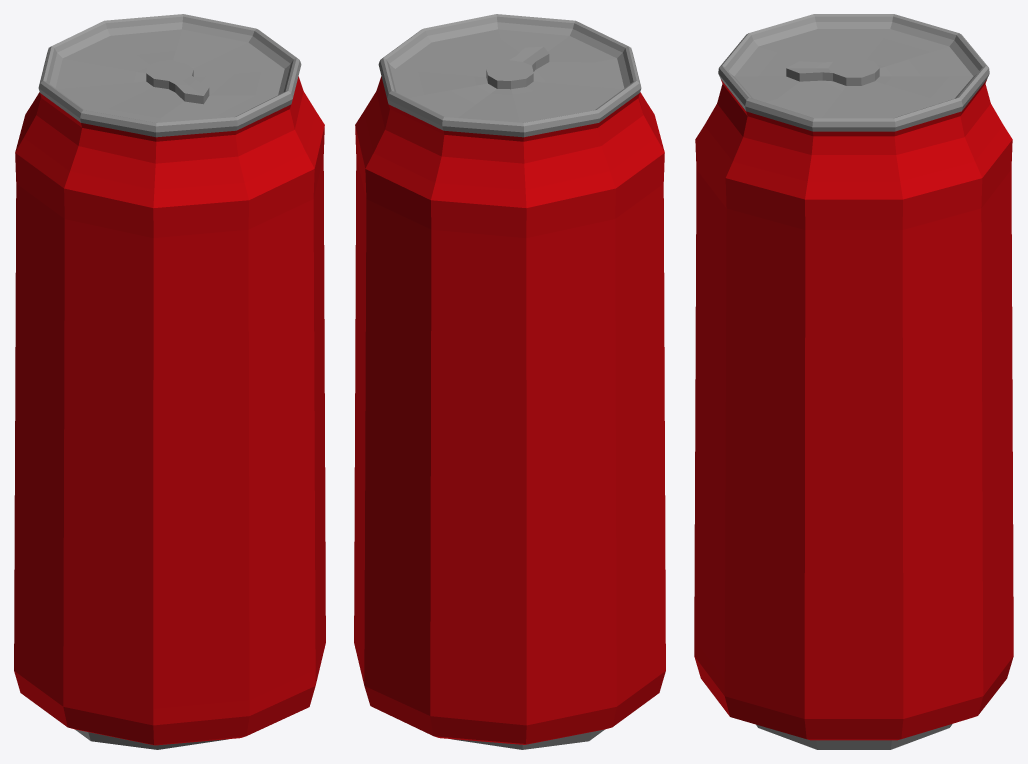
File: GamesE_E03_Lata.fbx
3 renders of one model, left to right at view 1: azimuth 30°, elevation 25°; view 2: azimuth 150°, elevation 25°; view 3: azimuth 270°, elevation 25°, orthographic.
Parts seen in each view (by area): view 1: Sphere; view 2: Sphere; view 3: Sphere.
Boxes of the visible parts, x1,y1,x2,y2 form: Sphere: [14, 14, 325, 749]; Sphere: [354, 14, 665, 749]; Sphere: [694, 14, 1013, 749].
Bounding box in the file's own units: 217 × 501 × 228.
